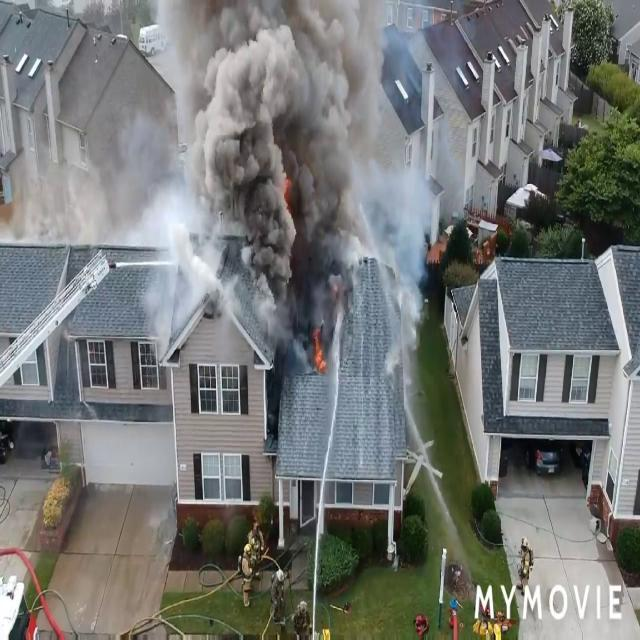Smoke: (162, 0, 376, 339), (368, 130, 439, 384)
